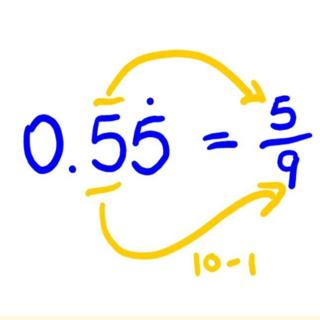.: (139, 91, 166, 109), (64, 157, 76, 178)
0: (14, 108, 66, 181)
5: (127, 111, 177, 178), (88, 110, 128, 177), (265, 90, 297, 135)
9: (273, 150, 303, 192)
